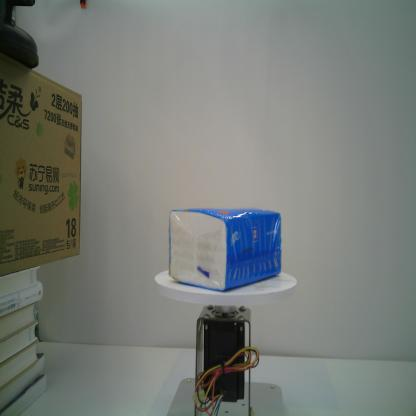Tissue: (167, 205, 284, 294)
